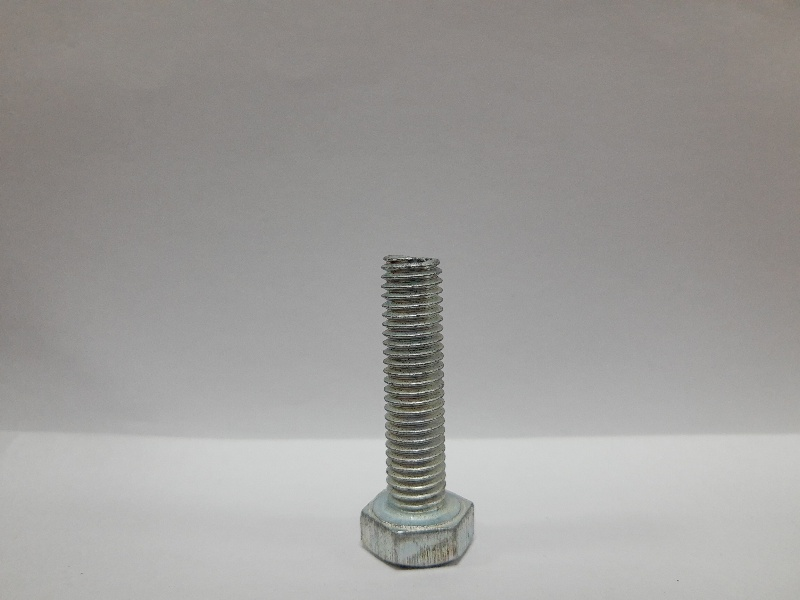pf: (354, 255, 481, 574)
